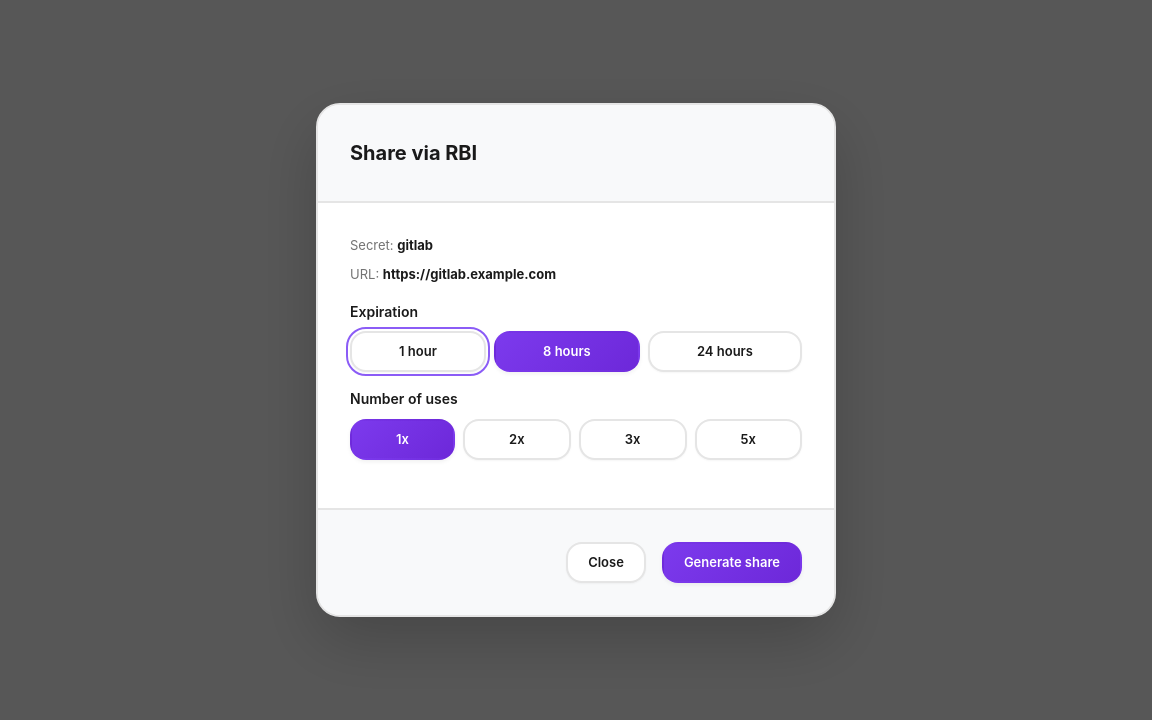
it: RBI-13 — envoi › wrap Vault puis /create-share AUTHENTIFIÉ (X-Vault-Token), sans identifiants vers le proxy
Click the button "24 hours": {"x": 725, "y": 352} left=648, top=331, right=802, bottom=372
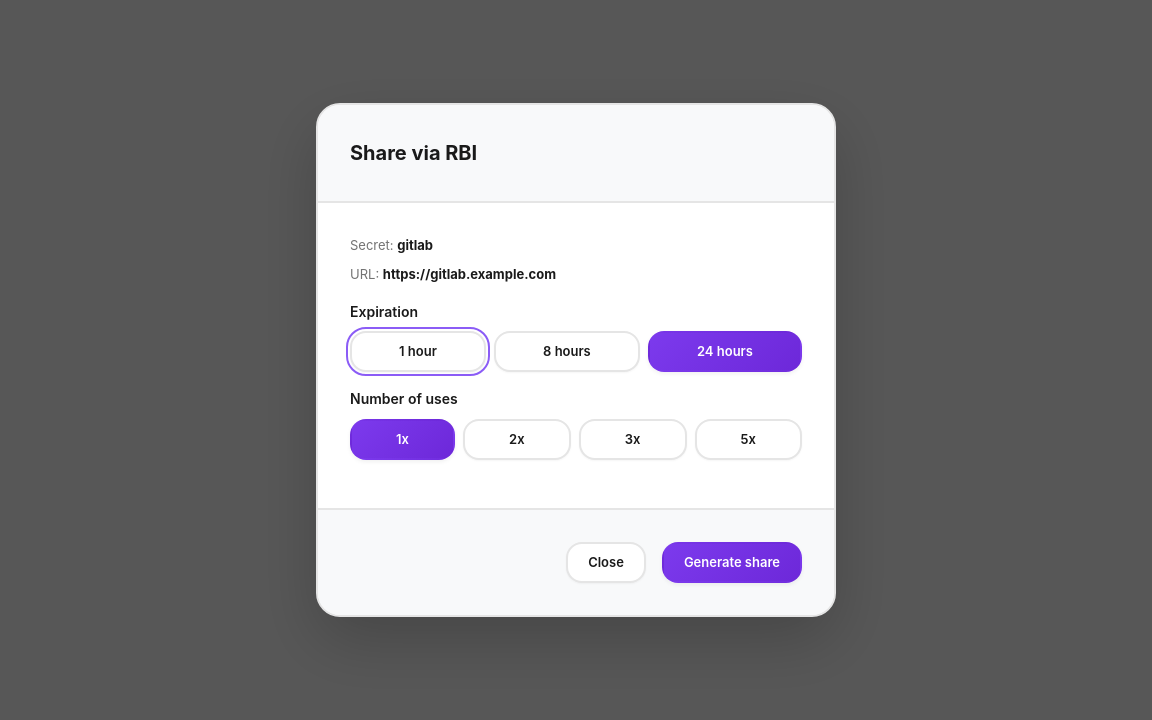
Click the button "5x": {"x": 748, "y": 439} left=694, top=419, right=802, bottom=460
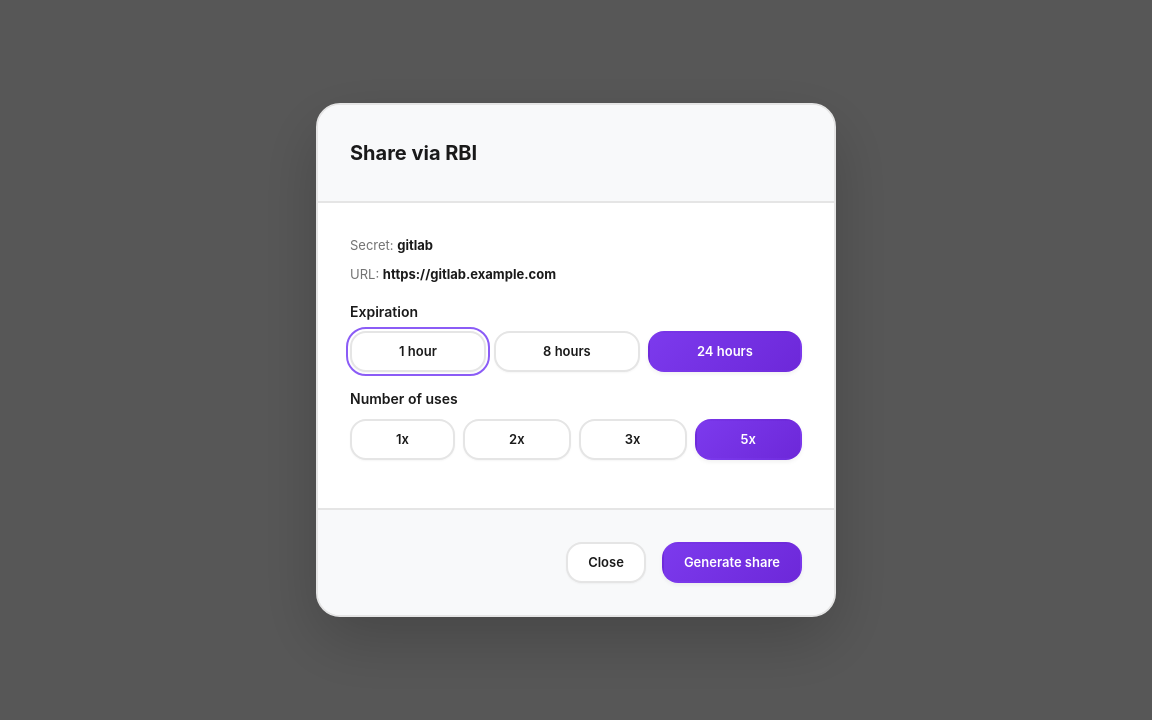
Click the button "Generate share": {"x": 732, "y": 562} left=662, top=542, right=802, bottom=583
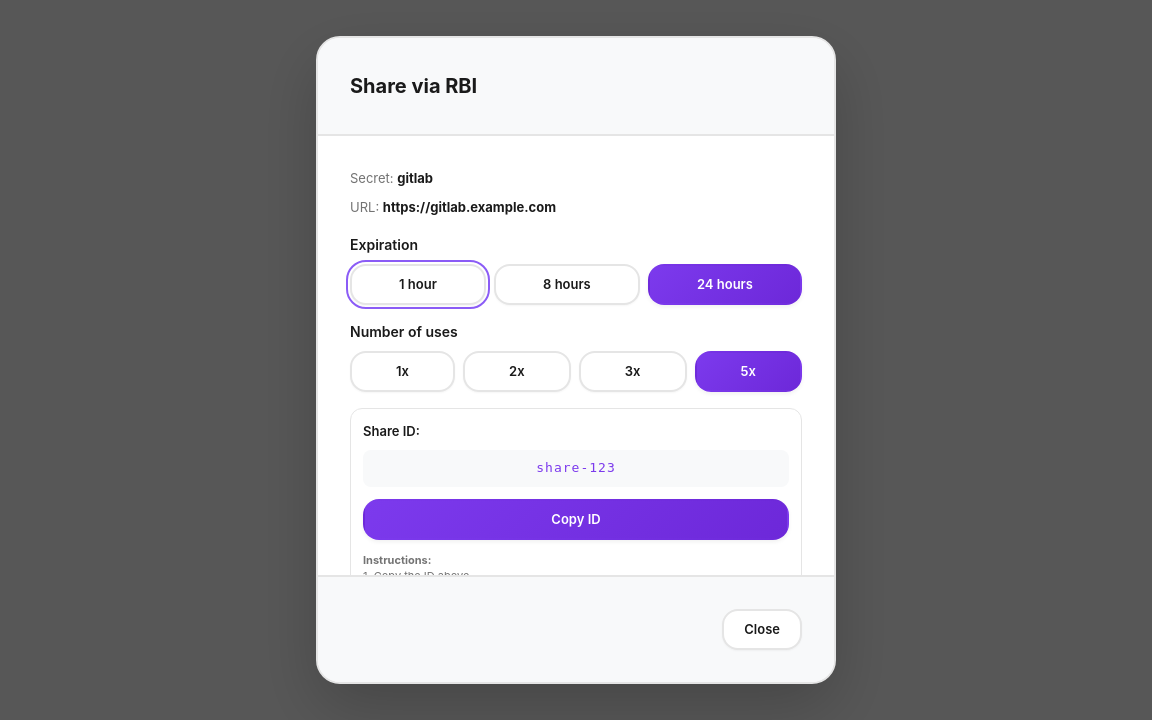
Check: the text "share-123" is shown, box left=363, top=450, right=789, bottom=487
